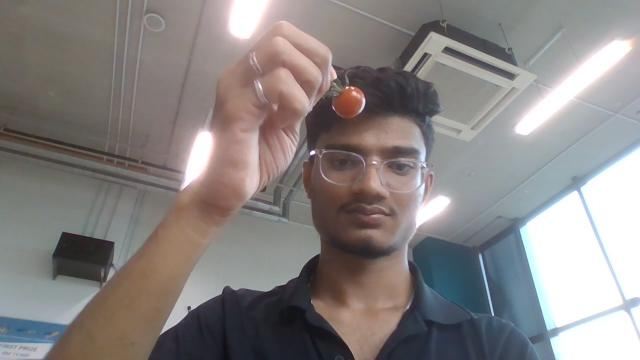Fully Grown: (332, 84, 366, 120)
